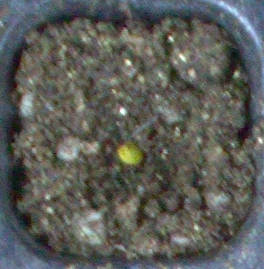pepper seed: (43, 59, 188, 224)
